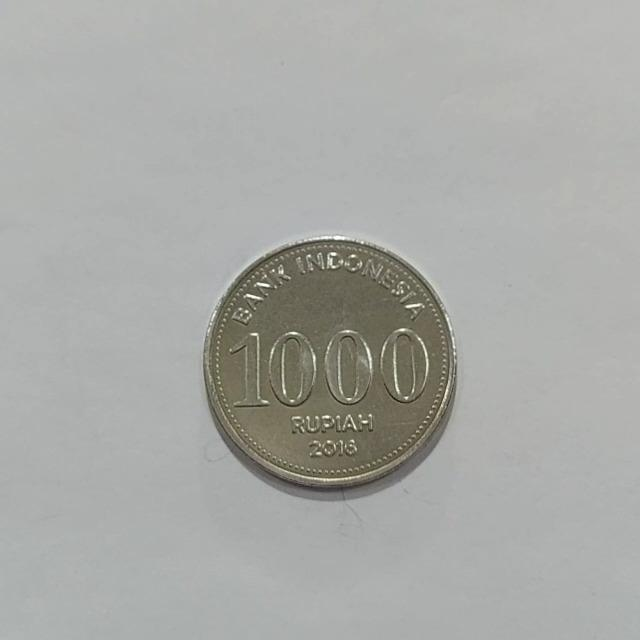Rp100: (200, 234, 458, 491)
